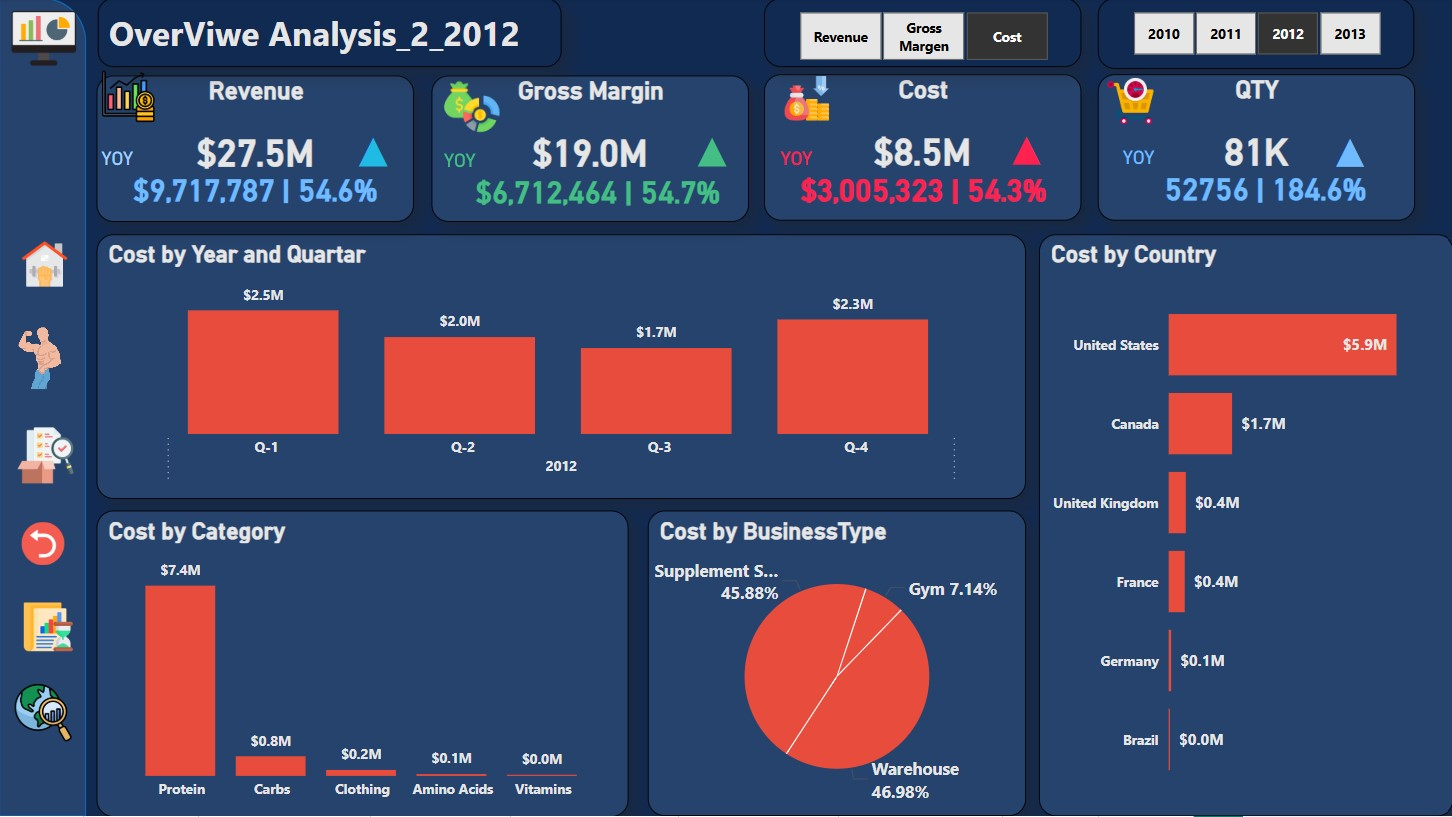

What the dashboard file says about the page in this screenshot:
{"tool":"powerbi","page":{"name":"Overviwe","canvas":[1280,720],"ordinal":1},"visuals":[{"type":"shape","box":[0,0,76.8,720.4],"z":0,"group":"g5"},{"type":"card","fields":{"Values":["Calculation.Revenue"]},"box":[1022.6,468.8,257.7,117.9],"z":0},{"type":"clusteredColumnChart","fields":{"Y":["Calculation.Revenue"],"Category":["dtbl_Calender.Year","dtbl_Calender.Quartar"]},"box":[87,207.6,816.8,233.7],"z":1000},{"type":"pieChart","fields":{"Y":["Calculation.Revenue"],"Category":["dtbl_Customers.BusinessType"]},"box":[570.7,451.2,332.9,268.6],"z":2000},{"type":"clusteredBarChart","fields":{"Y":["Calculation.Revenue"],"Category":["dtbl_Customers.CountryName"]},"box":[914.7,208.1,365.6,512.1],"z":3000},{"type":"clusteredColumnChart","fields":{"Y":["Calculation.Revenue"],"Category":["dtbl_Product.CategoryName"]},"box":[87,450,467.4,269.8],"z":4000},{"type":"slicer","fields":{"Values":["dtbl_Calender.Year"]},"box":[966.5,0,278.2,62.7],"z":5000},{"type":"slicer","fields":{"Values":["Parameter Time Analysis.Parameter Time Analysis"]},"box":[672.9,0,279.3,60.5],"z":6000},{"type":"actionButton","box":[86.9,0,407.9,60.5],"z":7000},{"type":"card","title":"Revenue","fields":{"Values":["Calculation.Revenue"]},"box":[86.2,68.4,279.3,128.7],"z":7000,"group":"g1"},{"type":"group","id":"g1","title":"Group 1","box":[84.5,56.1,282.1,141],"z":8000},{"type":"card","title":"Gross Margin","fields":{"Values":["Calculation.Gross Margen"]},"box":[379.9,68.5,279,128.7],"z":8000,"group":"g2"},{"type":"image","title":"dddd","box":[7.1,208.3,67,53],"z":8000,"group":"g5"},{"type":"group","id":"g2","title":"Group 2","box":[379.9,61.6,288.3,135.6],"z":9000},{"type":"card","title":"QTY","fields":{"Values":["Calculation.QTY"]},"box":[966.5,66.6,279,128.7],"z":9000,"group":"g4"},{"type":"image","box":[2.3,285.3,67,64],"z":9000,"group":"g5"},{"type":"group","id":"g3","title":"Group 3","box":[673.2,62.7,279,132.7],"z":10000},{"type":"card","title":"Cost","fields":{"Values":["Calculation.Cost"]},"box":[673.2,66.6,279,128.7],"z":10000,"group":"g3"},{"type":"image","box":[3.6,373.3,75,59],"z":10000,"group":"g5"},{"type":"group","id":"g4","title":"Group 4","box":[966.5,62.7,279,132.7],"z":11000},{"type":"card","fields":{"Values":["Time Analysis.VAR VALUE+%REVE"]},"box":[84.5,130.9,282.1,54.8],"z":11000,"group":"g1"},{"type":"image","box":[5.5,456.2,66,47],"z":11000,"group":"g5"},{"type":"group","id":"g5","title":"Group 5","box":[0,0,80.8,720.4],"z":12000},{"type":"card","fields":{"Values":["Time Analysis.VAR VALUE+% GM"]},"box":[386.1,132.8,282.1,54.8],"z":12000,"group":"g2"},{"type":"image","box":[6.8,527.2,74,53],"z":12000,"group":"g5"},{"type":"card","fields":{"Values":["Time Analysis.VAR VALUE+% COST"]},"box":[682,131,263.1,55.3],"z":13000,"group":"g3"},{"type":"image","box":[0,597.3,77.9,63.2],"z":13000,"group":"g5"},{"type":"image","box":[2.4,2.4,73.8,66.7],"z":14000,"group":"g5"},{"type":"card","fields":{"Values":["Time Analysis.VAR VALUE+% QTY"]},"box":[983.5,129.9,262,55.3],"z":14000,"group":"g4"},{"type":"card","fields":{"Values":["Calculation.ARROW REVE"]},"box":[304.7,115.4,50,38.1],"z":16000,"group":"g1"},{"type":"card","fields":{"Values":["Calculation.ARROW QTY"]},"box":[1163,116.3,50.8,37.3],"z":17000,"group":"g4"},{"type":"card","fields":{"Values":["Calculation.ARROW GM"]},"box":[602.4,115.5,50,38.1],"z":18000,"group":"g2"},{"type":"card","fields":{"Values":["Calculation.ARROW COST"]},"box":[878.4,115.2,50.8,36.1],"z":19000,"group":"g3"},{"type":"image","box":[385.9,61.6,60.5,68.2],"z":20000,"group":"g2"},{"type":"image","box":[681.7,62.7,58.3,51.7],"z":21000,"group":"g3"},{"type":"image","box":[86.2,56.1,56.1,60.2],"z":22000,"group":"g1"},{"type":"image","box":[966.5,62.7,58.3,56.1],"z":23000,"group":"g4"}]}

Visuals, with their boxes in screenshot pixels (x1, y1, x2, y2), scaled from the page's 1280x720 canvas onto the 1452x817 screenshot:
shape: detection(0, 0, 87, 816)
card - Calculation.Revenue: detection(1160, 532, 1451, 666)
clusteredColumnChart - Calculation.Revenue x dtbl_Calender.Year: detection(99, 236, 1025, 501)
pieChart - Calculation.Revenue x dtbl_Customers.BusinessType: detection(647, 512, 1025, 816)
clusteredBarChart - Calculation.Revenue x dtbl_Customers.CountryName: detection(1038, 236, 1451, 816)
clusteredColumnChart - Calculation.Revenue x dtbl_Product.CategoryName: detection(99, 511, 629, 816)
slicer - dtbl_Calender.Year: detection(1096, 0, 1412, 71)
slicer - Parameter Time Analysis.Parameter Time Analysis: detection(763, 0, 1080, 69)
actionButton: detection(99, 0, 561, 69)
"Revenue" card: detection(98, 78, 415, 224)
"Group 1" group: detection(96, 64, 416, 224)
"Gross Margin" card: detection(431, 78, 747, 224)
"dddd" image: detection(8, 236, 84, 297)
"Group 2" group: detection(431, 70, 758, 224)
"QTY" card: detection(1096, 76, 1413, 222)
image: detection(3, 324, 79, 396)
"Group 3" group: detection(764, 71, 1080, 222)
"Cost" card: detection(764, 76, 1080, 222)
image: detection(4, 424, 89, 491)
"Group 4" group: detection(1096, 71, 1413, 222)
card - Time Analysis.VAR VALUE+%REVE: detection(96, 149, 416, 211)
image: detection(6, 518, 81, 571)
"Group 5" group: detection(0, 0, 92, 816)
card - Time Analysis.VAR VALUE+% GM: detection(438, 151, 758, 213)
image: detection(8, 598, 92, 658)
card - Time Analysis.VAR VALUE+% COST: detection(774, 149, 1072, 211)
image: detection(0, 678, 88, 749)
image: detection(3, 3, 86, 78)
card - Time Analysis.VAR VALUE+% QTY: detection(1116, 147, 1413, 210)
card - Calculation.ARROW REVE: detection(346, 131, 402, 174)
card - Calculation.ARROW QTY: detection(1319, 132, 1377, 174)
card - Calculation.ARROW GM: detection(683, 131, 740, 174)
card - Calculation.ARROW COST: detection(996, 131, 1054, 172)
image: detection(438, 70, 506, 147)
image: detection(773, 71, 839, 130)
image: detection(98, 64, 161, 132)
image: detection(1096, 71, 1163, 135)
